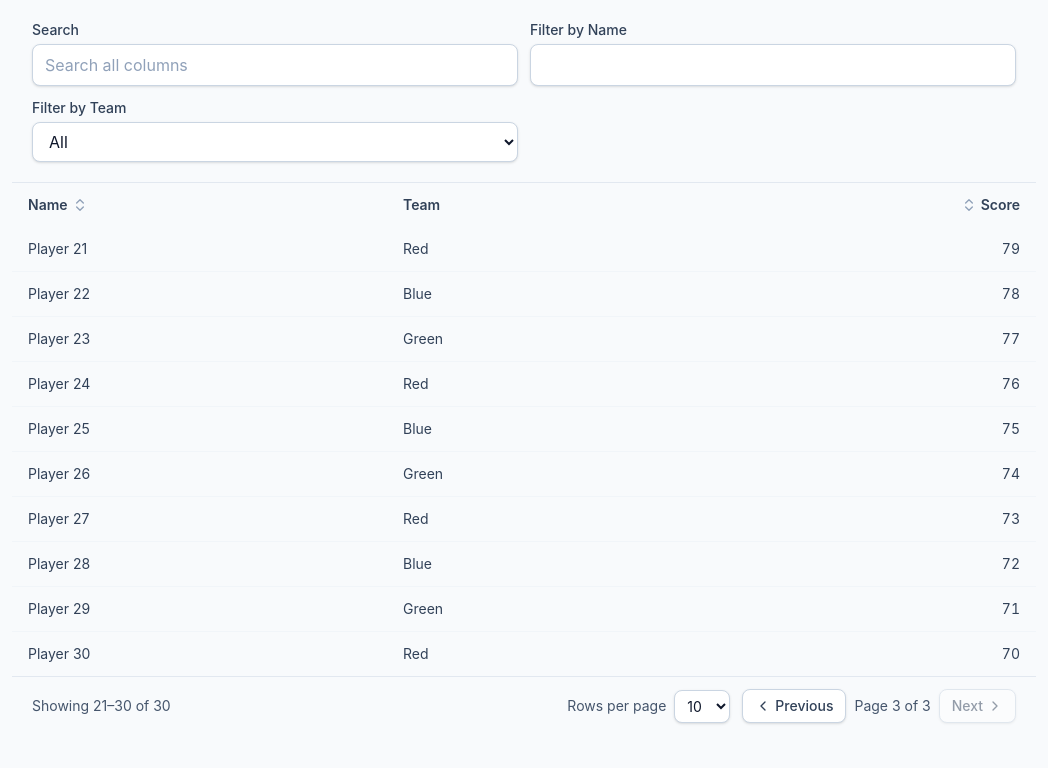
it: DataTable › changes the page size and returns to page 1
The image size is (1048, 768).
Select "25" in the dropdown labelled "Rows per page" at point(702, 706), box [674,690,730,722]
(page scrolled)
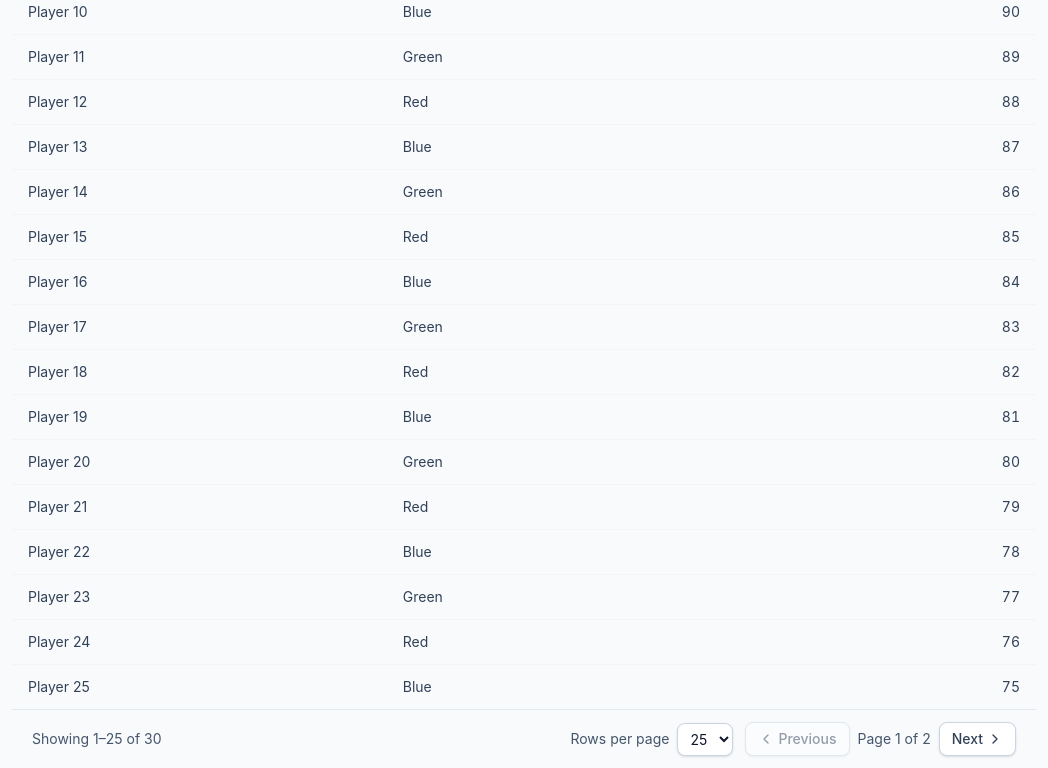
Result: the text "Page 1 of 2" is shown at [858,729,931,749]
Result: the message reads "Showing 1–25 of 30" at [32,730,162,747]
